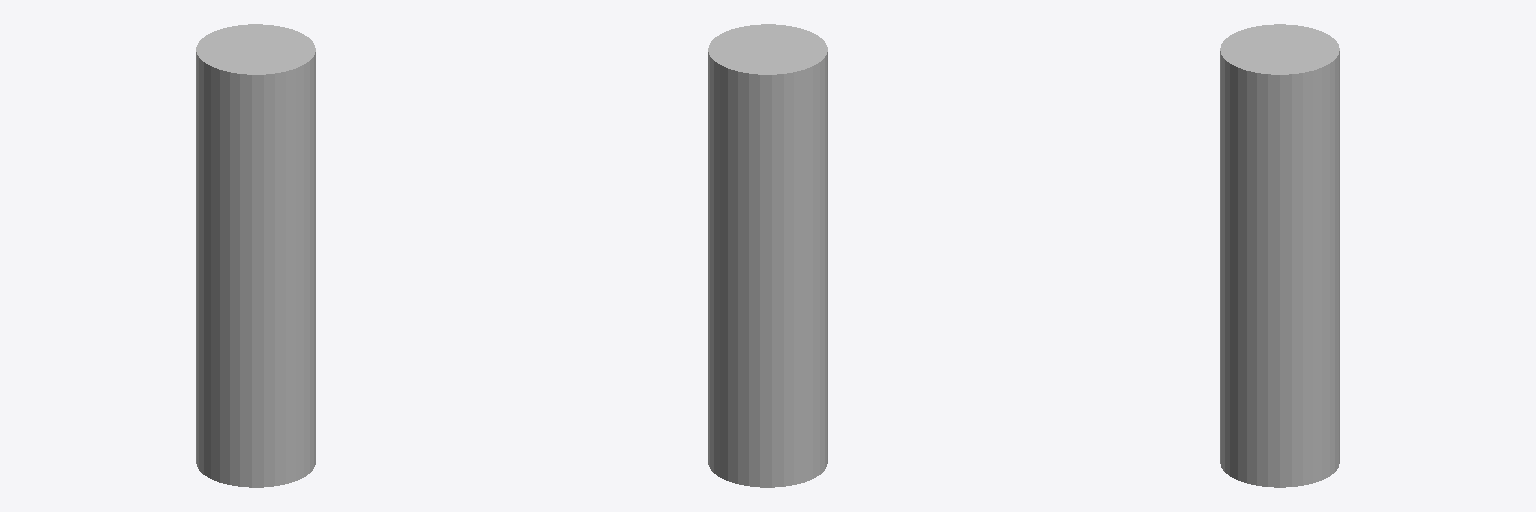
The model's file is Cub2.2.obj.
3 views of the same model, side by side, from view 1: azimuth 30°, elevation 25°; view 2: azimuth 150°, elevation 25°; view 3: azimuth 270°, elevation 25° (orthographic).
Visible parts, largest first — view 1: Cyl2:Mesh; view 2: Cyl2:Mesh; view 3: Cyl2:Mesh.
Boxes of the visible parts, x1=… form: Cyl2:Mesh: x1=196, y1=24, x2=315, y2=487; Cyl2:Mesh: x1=708, y1=24, x2=827, y2=487; Cyl2:Mesh: x1=1220, y1=24, x2=1339, y2=487.
Size of the model in its own units: 1.4 by 5.33 by 1.4.